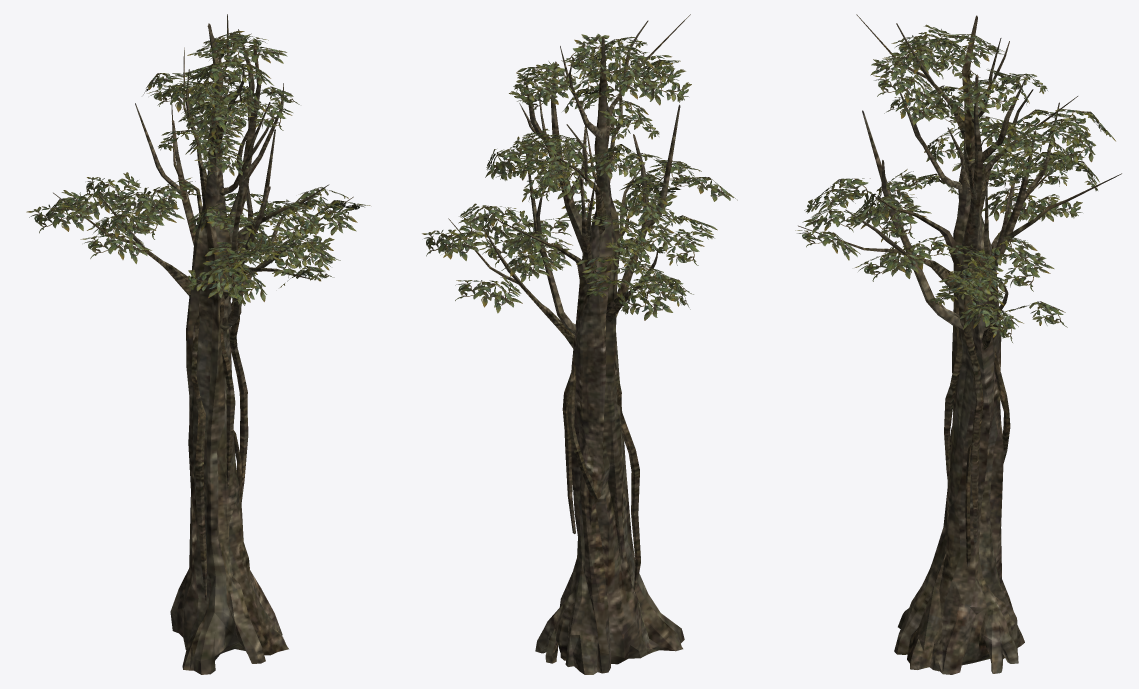
Rendered from bg_anh_tree_te_t58_sm_old.FBX.
3 renders of one model, left to right at view 1: azimuth 30°, elevation 25°; view 2: azimuth 150°, elevation 25°; view 3: azimuth 270°, elevation 25°, orthographic. The views are drawn at different scales.
Visible parts, largest first — view 1: bg_anh_tree_te_t58_sm_old; view 2: bg_anh_tree_te_t58_sm_old; view 3: bg_anh_tree_te_t58_sm_old.
Boxes of the visible parts, x1,y1,x2,y2 form: bg_anh_tree_te_t58_sm_old: (26, 14, 370, 674); bg_anh_tree_te_t58_sm_old: (422, 14, 737, 674); bg_anh_tree_te_t58_sm_old: (795, 14, 1121, 674).
Bounding box in the file's own units: 362 × 668 × 331.
